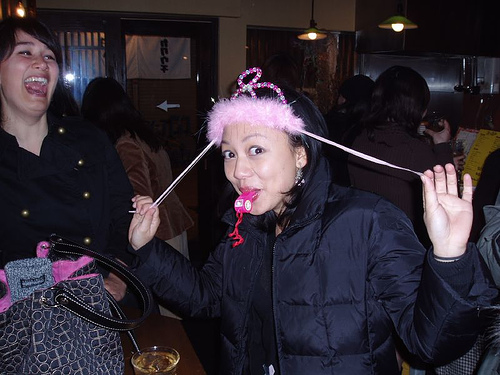without_mask: (221, 119, 311, 218), (1, 31, 66, 121)
